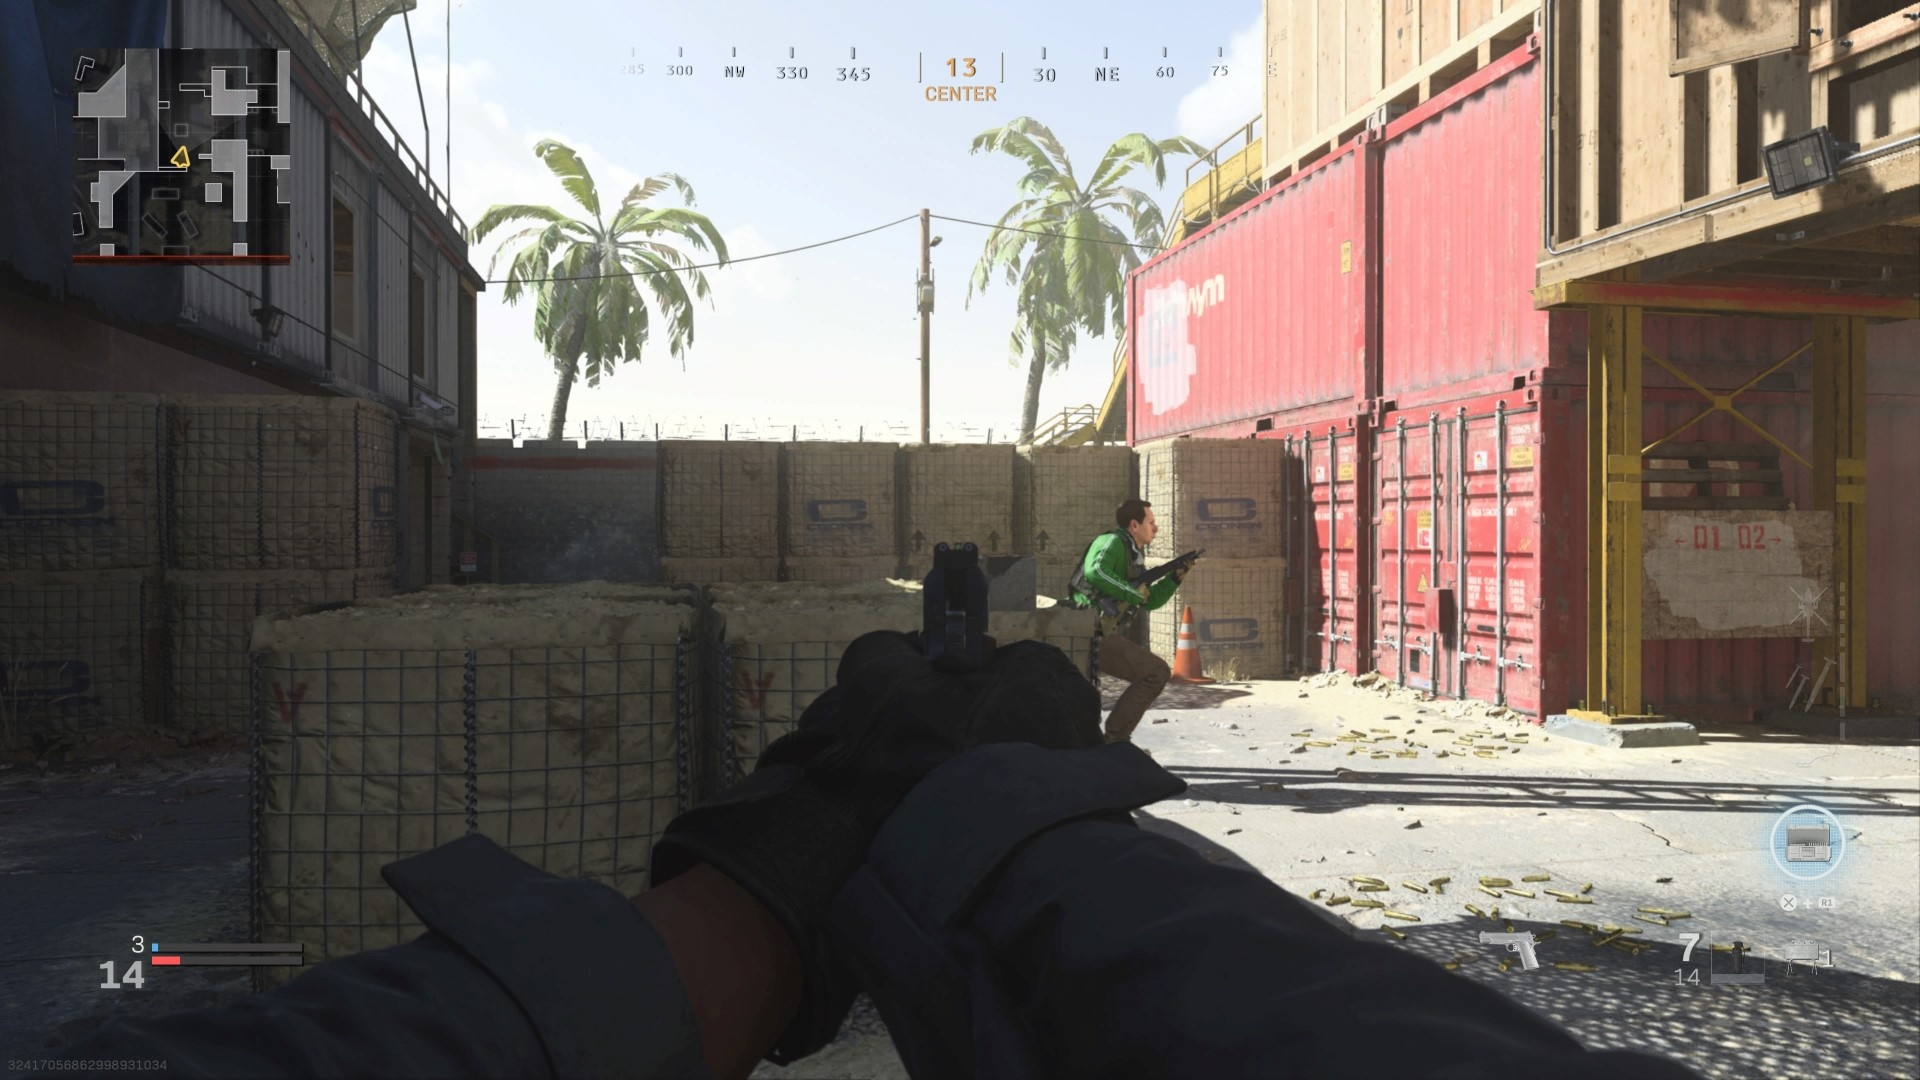head: (1114, 496, 1162, 553)
person: (1067, 495, 1193, 738)
